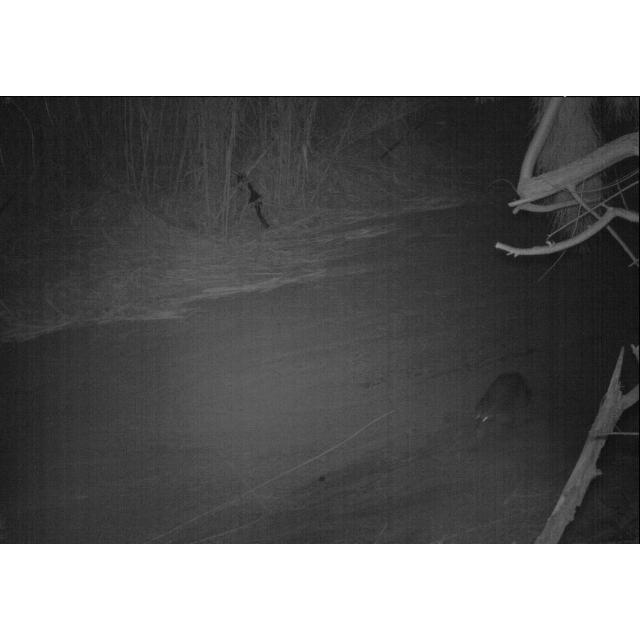animals: (472, 370, 534, 432)
